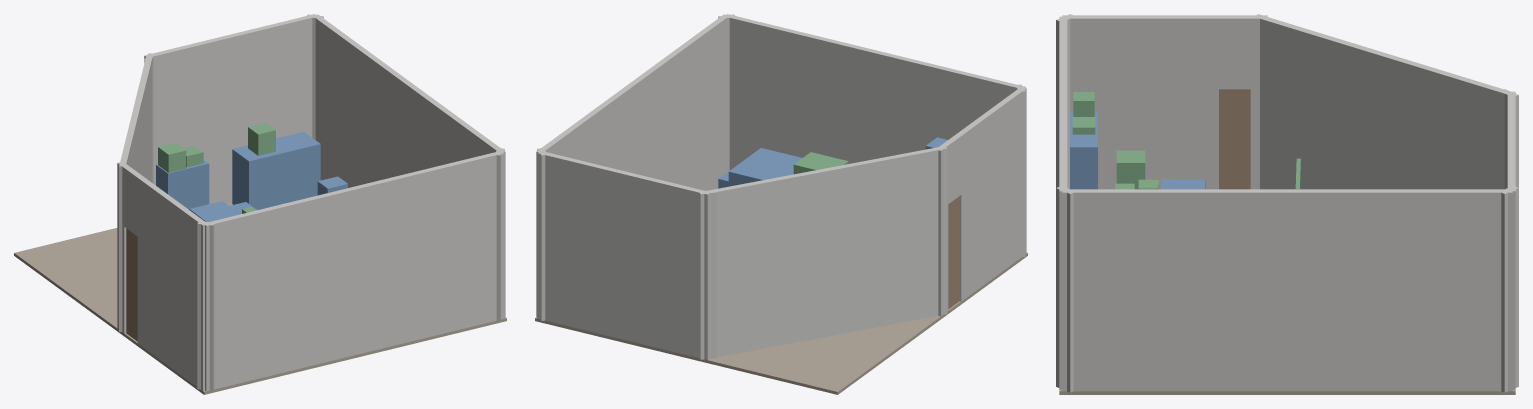
Rendered from room_066.glb.
The picture shows the model from 3 angles, left to right: view 1: azimuth 30°, elevation 25°; view 2: azimuth 150°, elevation 25°; view 3: azimuth 270°, elevation 25°; orthographic projection. The views are drawn at different scales.
Parts seen in each view (by area): view 1: shell_wall_5_s0, shell_wall_0_s0, shell_wall_7_s0, shell_wall_3_s2, shell_floor, obj_017, shell_wall_2_s0, obj_022, shell_wall_4_s0, shell_wall_3_door, shell_wall_3_s0, shell_wall_6_s0 (+5 smaller); view 2: shell_wall_2_s0, shell_wall_0_s0, shell_wall_5_s0, shell_wall_7_s0, shell_wall_3_s2, shell_floor, shell_wall_1_s0, obj_026, shell_wall_3_s0, shell_wall_3_door, shell_wall_8_s0, shell_wall_3_s1 (+3 smaller); view 3: shell_wall_7_s0, shell_wall_2_s0, shell_wall_3_s2, shell_wall_3_door, shell_wall_3_s1, shell_wall_5_s0, shell_wall_8_s0, shell_wall_6_s0, shell_floor, shell_wall_3_s0, obj_016, shell_wall_0_s0 (+6 smaller).
Part boxes in pixels (<box>): shell_wall_5_s0: <box>205,152,504,391</box>; shell_wall_0_s0: <box>144,14,317,203</box>; shell_wall_7_s0: <box>313,14,505,317</box>; shell_wall_3_s2: <box>137,176,207,390</box>; shell_floor: <box>14,203,506,394</box>; obj_017: <box>232,131,320,209</box>; shell_wall_2_s0: <box>119,57,152,331</box>; obj_022: <box>156,160,209,209</box>; shell_wall_4_s0: <box>197,221,214,390</box>; shell_wall_3_door: <box>126,228,137,341</box>; shell_wall_3_s0: <box>117,162,129,333</box>; shell_wall_6_s0: <box>494,148,504,320</box>; shell_wall_2_s0: <box>707,147,947,358</box>; shell_wall_0_s0: <box>537,151,710,359</box>; shell_wall_5_s0: <box>724,14,1025,170</box>; shell_wall_7_s0: <box>536,14,726,317</box>; shell_wall_3_s2: <box>956,87,1026,301</box>; shell_floor: <box>535,252,1027,394</box>; shell_wall_1_s0: <box>699,190,716,359</box>; obj_026: <box>728,148,802,186</box>; shell_wall_3_s0: <box>935,144,948,316</box>; shell_wall_3_door: <box>948,196,959,308</box>; shell_wall_8_s0: <box>537,148,545,320</box>; shell_wall_3_s1: <box>943,134,961,203</box>; shell_wall_7_s0: <box>1062,189,1512,391</box>; shell_wall_2_s0: <box>1254,14,1514,189</box>; shell_wall_3_s2: <box>1062,15,1218,189</box>; shell_wall_3_door: <box>1219,89,1250,189</box>; shell_wall_3_s1: <box>1219,15,1250,89</box>; shell_wall_5_s0: <box>1059,16,1067,389</box>; shell_wall_8_s0: <box>1499,185,1518,392</box>; shell_wall_6_s0: <box>1056,185,1075,392</box>; shell_floor: <box>1059,390,1515,394</box>; shell_wall_3_s0: <box>1250,15,1267,189</box>; obj_016: <box>1070,111,1097,189</box>; shell_wall_0_s0: <box>1507,91,1515,389</box>.
Size of the model in its own units: 5.44 by 2.85 by 5.91.
